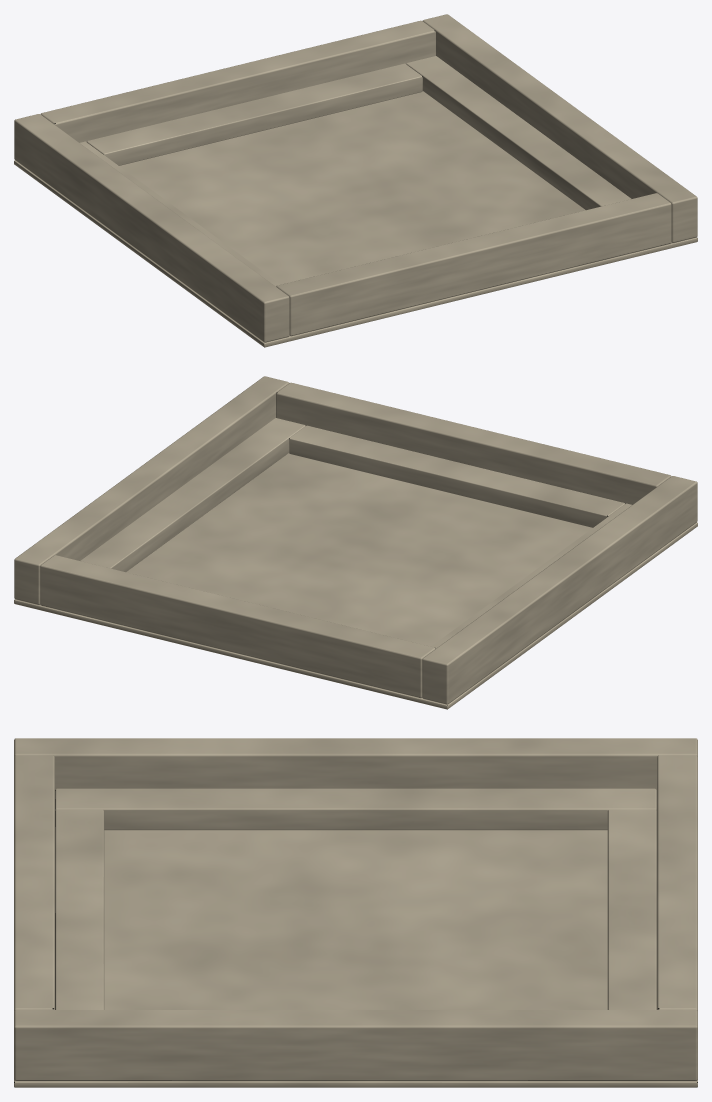
Rendered from Furn_Bathtub.fbx.
3 renders of one model, top to bottom at view 1: azimuth 30°, elevation 25°; view 2: azimuth 150°, elevation 25°; view 3: azimuth 270°, elevation 25°, orthographic. The views are drawn at different scales.
Visible parts, largest first — view 1: Furn_Bathtub_Mesh; view 2: Furn_Bathtub_Mesh; view 3: Furn_Bathtub_Mesh.
Part boxes in pixels (box(x1,y1,x2,y2)): Furn_Bathtub_Mesh: box(14, 14, 697, 347); Furn_Bathtub_Mesh: box(14, 376, 697, 709); Furn_Bathtub_Mesh: box(14, 738, 697, 1087).
Bounding box in the file's own units: 5 × 0.5 × 5.
Materials: 1 (1 with a texture image).
